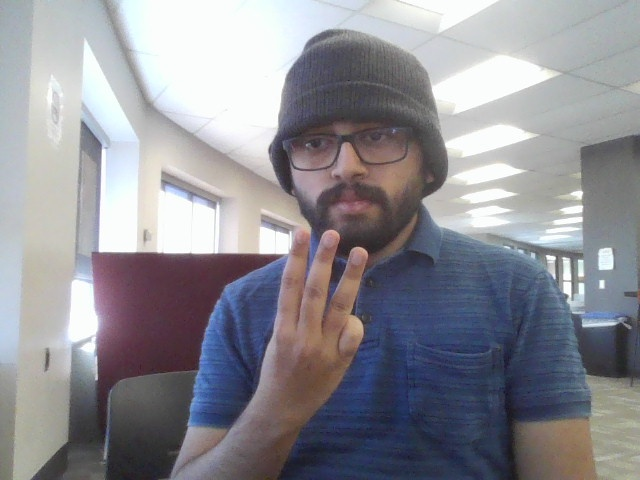start: (258, 221, 388, 439)
